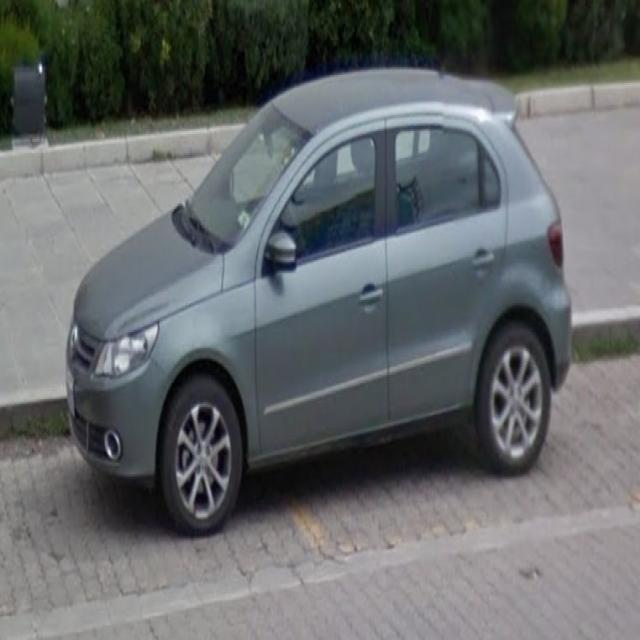Car: (52, 75, 573, 539)
